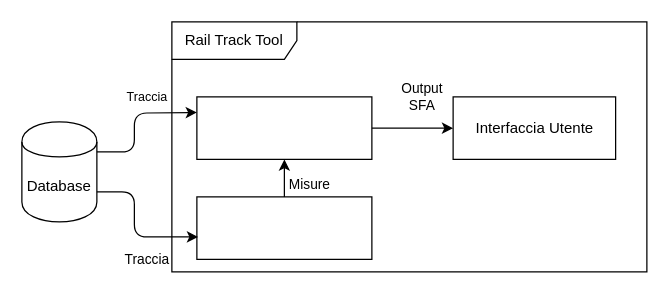
The diagram is 669 pixels wide and 294 high, and some of its shapes have lost their labels. Here are the shapes that lost their labels. From the top down, the centre of each, then its label:
At pixel 284 127: "SensorFusionLib".
At pixel 284 227: "SynthDataGen".
